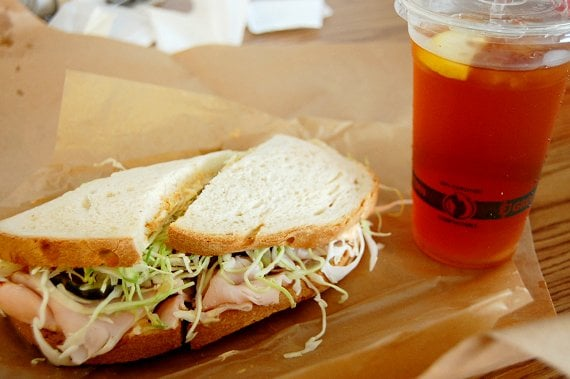pizza: (395, 1, 570, 270)
soup: (3, 133, 381, 367)
